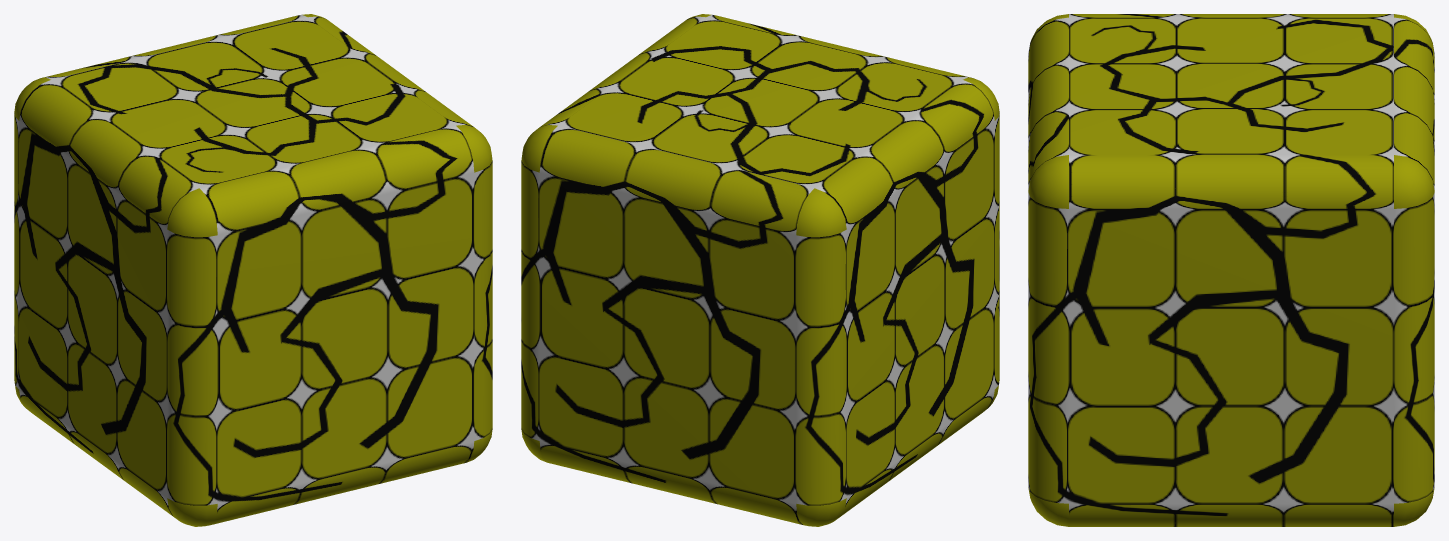
Rendered from New_Ground_Break.fbx.
3 views of the same model, side by side, from view 1: azimuth 30°, elevation 25°; view 2: azimuth 150°, elevation 25°; view 3: azimuth 270°, elevation 25° (orthographic). The views are drawn at different scales.
Visible parts, largest first — view 1: pCube18; view 2: pCube18; view 3: pCube18.
Part boxes in pixels (bbox=[...]): pCube18: bbox=[14, 14, 492, 526]; pCube18: bbox=[521, 14, 999, 526]; pCube18: bbox=[1028, 14, 1434, 526].
Bounding box in the file's own units: 100 × 100 × 100.
